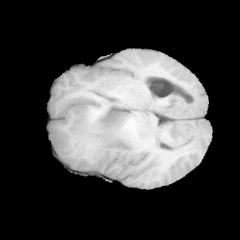glioma: (66, 102, 133, 161)
